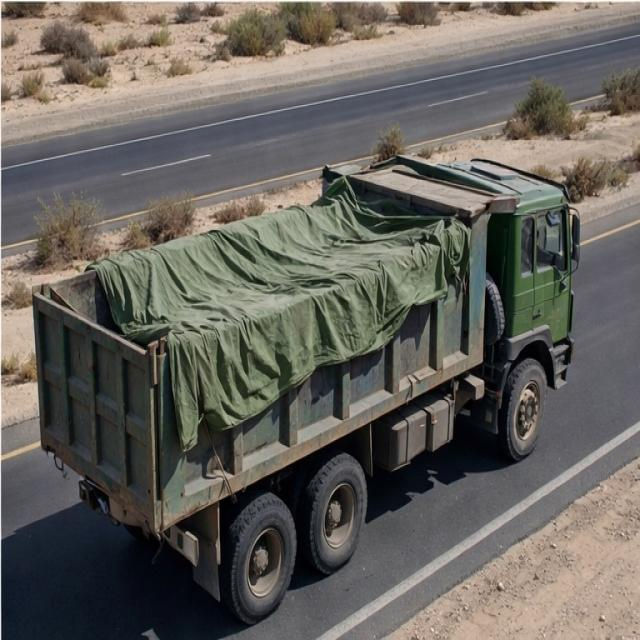Box: (31, 151, 518, 390)
Truck: (24, 146, 586, 624)
